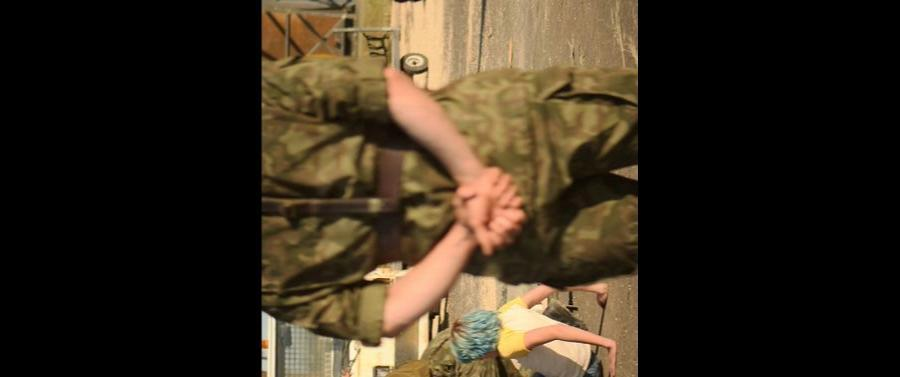gun: (320, 347, 364, 377)
